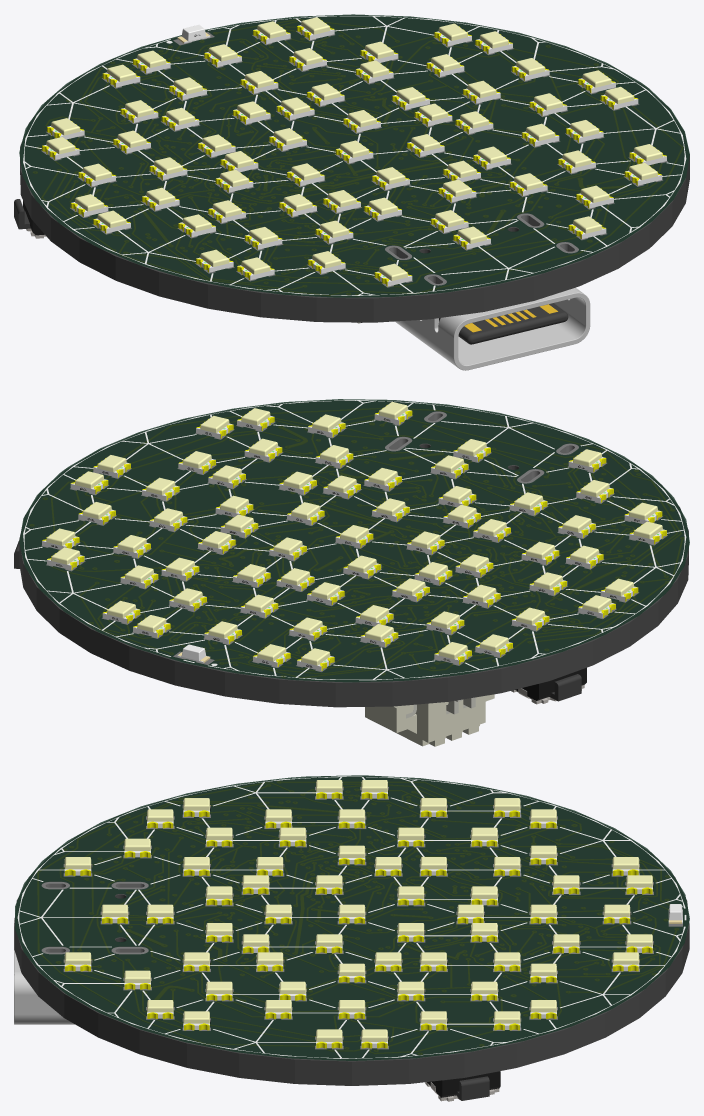
File: board.glb
The picture shows the model from 3 angles, top to bottom: view 1: azimuth 30°, elevation 25°; view 2: azimuth 150°, elevation 25°; view 3: azimuth 270°, elevation 25°; orthographic projection.
Visible parts, largest first — view 1: sunflower_soldermask, sunflower_PCB, LED-ARRAY-SMD_4P-L1.6-W1.5-BR_XL-1615RGBC-RF (×67), sunflower_copper, USB-C-SMD_TYPE-C-31-M-12, sunflower_silkscreen, sunflower_pad, SW-SMD_EVQP7C01P-L3.6-W3.5-H1.4-P3.6-LS4.7; view 2: sunflower_soldermask, sunflower_PCB, LED-ARRAY-SMD_4P-L1.6-W1.5-BR_XL-1615RGBC-RF (×67), sunflower_copper, sunflower_silkscreen, sunflower_pad, Molex_PicoBlade_53261-0271_1x02-1MP_P1.25mm_Horizontal, SW-SMD_EVQP7C01P-L3.6-W3.5-H1.4-P3.6-LS4.7; view 3: sunflower_soldermask, sunflower_PCB, LED-ARRAY-SMD_4P-L1.6-W1.5-BR_XL-1615RGBC-RF (×67), sunflower_copper, sunflower_silkscreen, sunflower_pad, USB-C-SMD_TYPE-C-31-M-12, SW-SMD_EVQP7C01P-L3.6-W3.5-H1.4-P3.6-LS4.7.
Part boxes in pixels (x1=…): sunflower_soldermask: x1=19, y1=14, x2=689, y2=297; sunflower_PCB: x1=20, y1=16, x2=689, y2=322; LED-ARRAY-SMD_4P-L1.6-W1.5-BR_XL-1615RGBC-RF (×67): x1=42, y1=17, x2=666, y2=286; sunflower_copper: x1=33, y1=18, x2=682, y2=295; USB-C-SMD_TYPE-C-31-M-12: x1=395, y1=287, x2=590, y2=370; sunflower_silkscreen: x1=23, y1=15, x2=686, y2=295; sunflower_pad: x1=41, y1=31, x2=667, y2=287; SW-SMD_EVQP7C01P-L3.6-W3.5-H1.4-P3.6-LS4.7: x1=14, y1=199, x2=46, y2=238; sunflower_soldermask: x1=19, y1=399, x2=689, y2=682; sunflower_PCB: x1=19, y1=401, x2=688, y2=707; LED-ARRAY-SMD_4P-L1.6-W1.5-BR_XL-1615RGBC-RF (×67): x1=42, y1=401, x2=666, y2=670; sunflower_copper: x1=30, y1=408, x2=682, y2=677; sunflower_silkscreen: x1=23, y1=400, x2=686, y2=680; sunflower_pad: x1=41, y1=411, x2=667, y2=672; Molex_PicoBlade_53261-0271_1x02-1MP_P1.25mm_Horizontal: x1=365, y1=694, x2=494, y2=746; SW-SMD_EVQP7C01P-L3.6-W3.5-H1.4-P3.6-LS4.7: x1=511, y1=667, x2=586, y2=704; sunflower_soldermask: x1=15, y1=775, x2=689, y2=1060; sunflower_PCB: x1=14, y1=777, x2=689, y2=1085; LED-ARRAY-SMD_4P-L1.6-W1.5-BR_XL-1615RGBC-RF (×67): x1=64, y1=780, x2=653, y2=1048; sunflower_copper: x1=38, y1=782, x2=678, y2=1054; sunflower_silkscreen: x1=17, y1=776, x2=686, y2=1058; sunflower_pad: x1=41, y1=787, x2=682, y2=1049; USB-C-SMD_TYPE-C-31-M-12: x1=14, y1=917, x2=74, y2=1024; SW-SMD_EVQP7C01P-L3.6-W3.5-H1.4-P3.6-LS4.7: x1=425, y1=1071, x2=500, y2=1101.
Bounding box in the file's own units: 0.038 × 0.00568 × 0.038.
